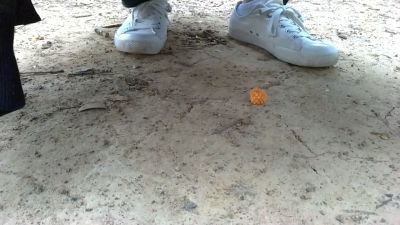eggs: (251, 87, 269, 109)
